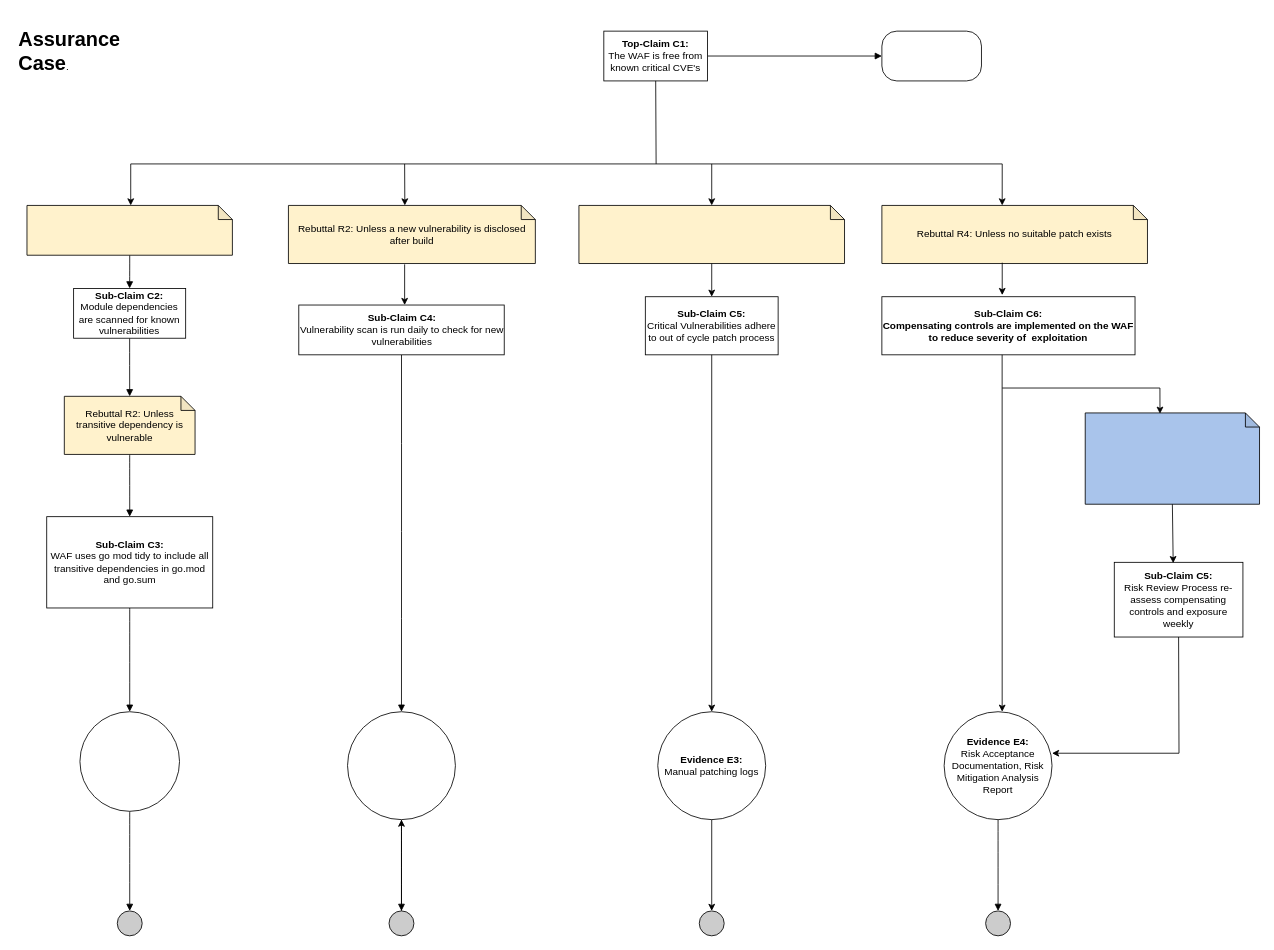
The diagram is 1274 pixels wide and 950 high, and some of its shapes have lost their labels. Here are the shapes that lost their labels. From the top down, the centre of each, then its label:
(x=931, y=55): Context: CT1 WAF is written in Golang
(x=129, y=230): Rebuttal R1: Unless a new vulnerable dependency is included
(x=711, y=234): Rebuttal R3: Unless a vulnerability is discovered and not patched
(x=1172, y=458): Undermine UM1: Compensating controls fail to reduce risk to acceptable levels
(x=129, y=761): Evidence E1 : output of go mod tidy
(x=401, y=765): Evidence E2: output of vulnscan using go mod tidy as CPE input to
